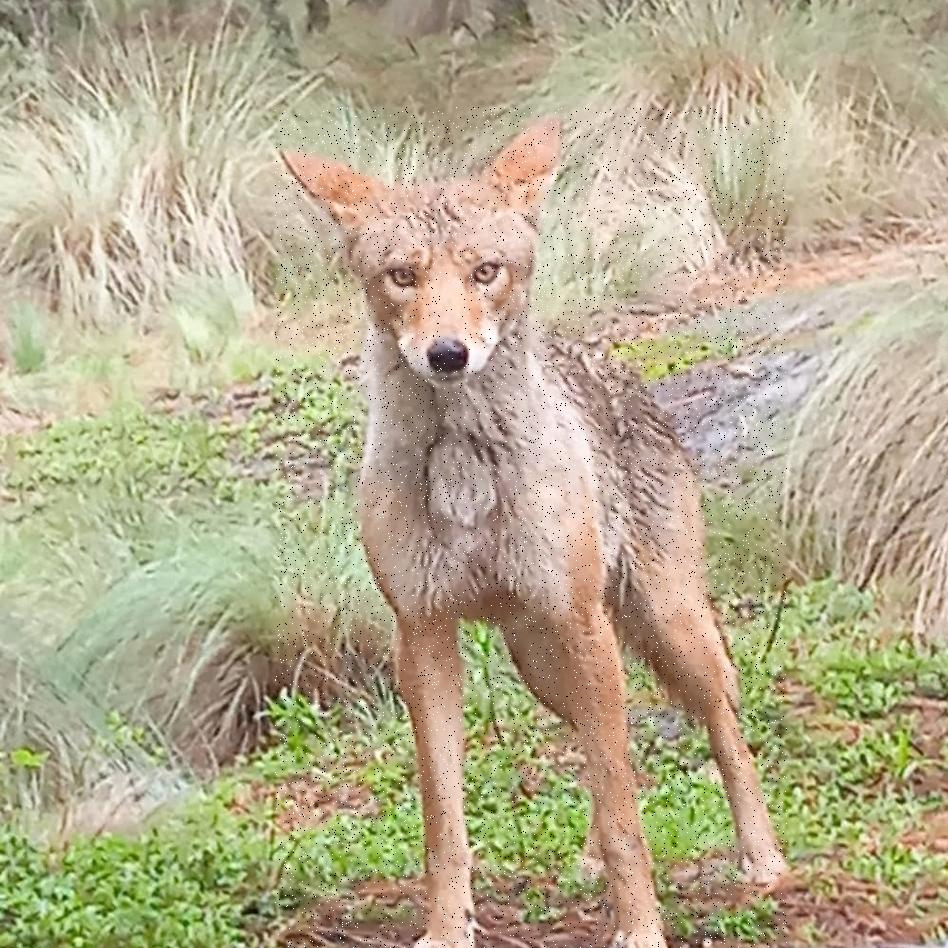Coyote: (275, 107, 787, 948)
